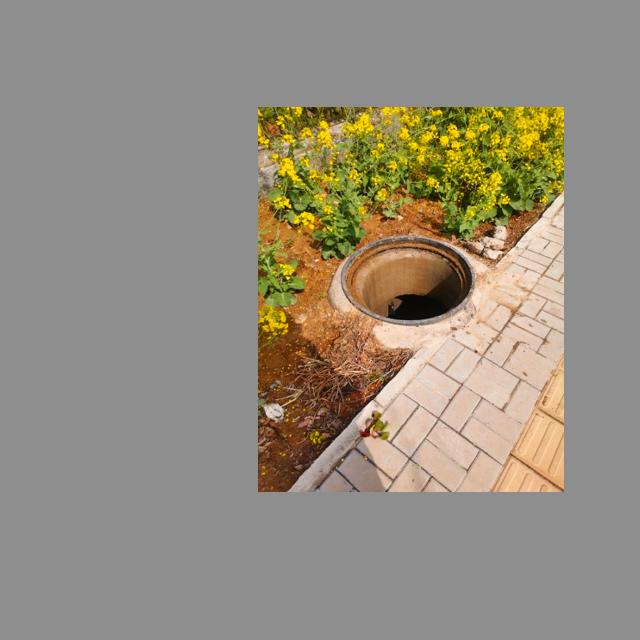lose: (335, 225, 486, 325)
